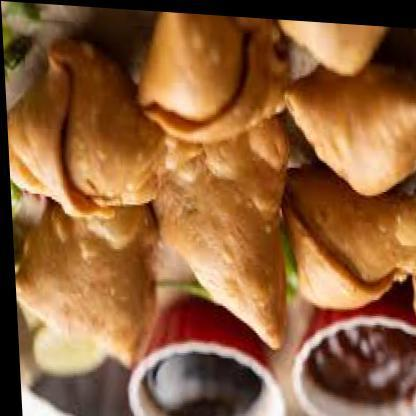samosa: (1, 35, 205, 222), (146, 104, 299, 345), (8, 192, 161, 368), (132, 7, 292, 143), (277, 157, 416, 306), (281, 49, 416, 192), (279, 15, 390, 70)
